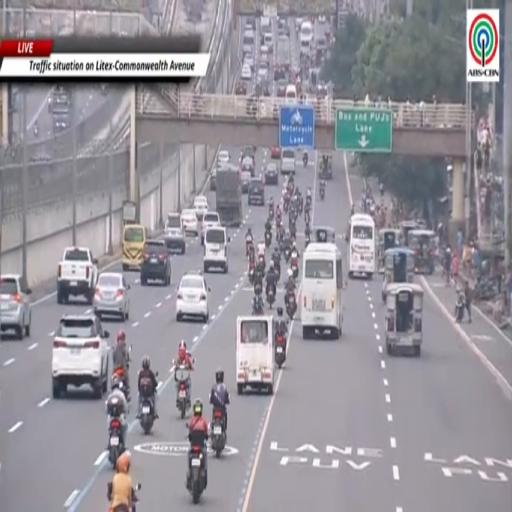bus: (300, 243, 343, 339), (347, 214, 375, 279), (299, 22, 313, 54)
car: (52, 314, 109, 398), (0, 274, 31, 339), (93, 272, 130, 321), (176, 272, 210, 323), (141, 239, 171, 285), (204, 227, 230, 273), (200, 212, 220, 246), (164, 229, 185, 254), (181, 209, 199, 236), (248, 178, 264, 205), (274, 63, 287, 91), (193, 196, 208, 220), (240, 156, 254, 177), (265, 163, 278, 185), (165, 213, 182, 229), (241, 171, 251, 194), (218, 150, 230, 166), (277, 78, 287, 97), (241, 63, 252, 79), (258, 62, 268, 79), (243, 54, 254, 69), (210, 167, 217, 190), (236, 83, 247, 95), (271, 147, 281, 159), (246, 18, 255, 29), (318, 15, 326, 23)
jeepney: (385, 283, 423, 356), (382, 248, 414, 302), (409, 230, 435, 275), (378, 229, 401, 274), (400, 220, 420, 247)
motorcycle: (188, 445, 205, 504), (175, 365, 191, 419), (108, 418, 124, 469), (211, 409, 226, 458), (116, 484, 141, 511), (139, 394, 154, 435), (113, 367, 130, 402), (275, 332, 285, 369), (456, 291, 465, 323), (286, 291, 296, 319), (252, 295, 264, 315), (266, 286, 275, 309), (248, 260, 256, 285), (291, 255, 298, 279), (258, 254, 265, 274), (276, 227, 284, 244), (246, 240, 253, 258), (274, 260, 280, 281), (265, 231, 272, 248), (298, 196, 304, 214), (283, 196, 289, 213), (290, 222, 296, 239), (284, 247, 290, 262), (305, 196, 311, 210), (268, 205, 273, 220), (305, 233, 310, 248), (303, 154, 308, 166), (320, 186, 324, 200)
truck: (57, 247, 98, 303), (216, 165, 242, 227), (275, 37, 291, 79), (280, 150, 295, 174)
